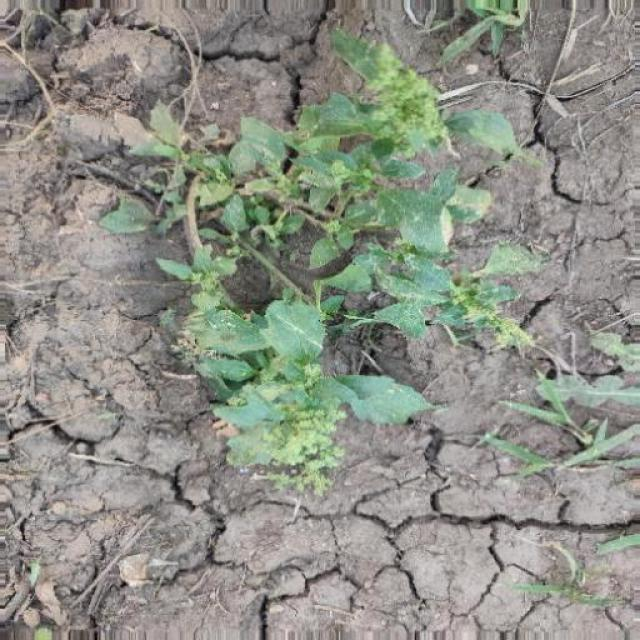weed: (130, 100, 500, 478)
